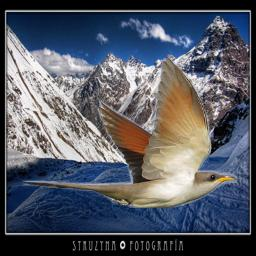Cuckoo: (22, 58, 237, 208)
